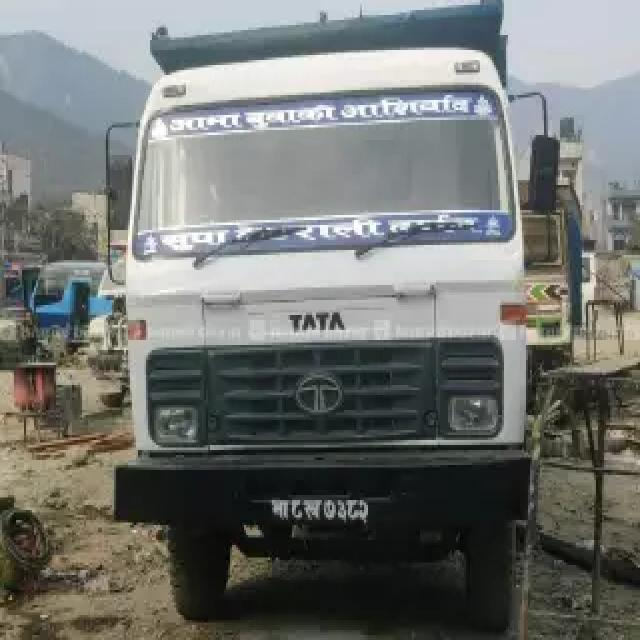License-plate: (269, 493, 374, 528)
